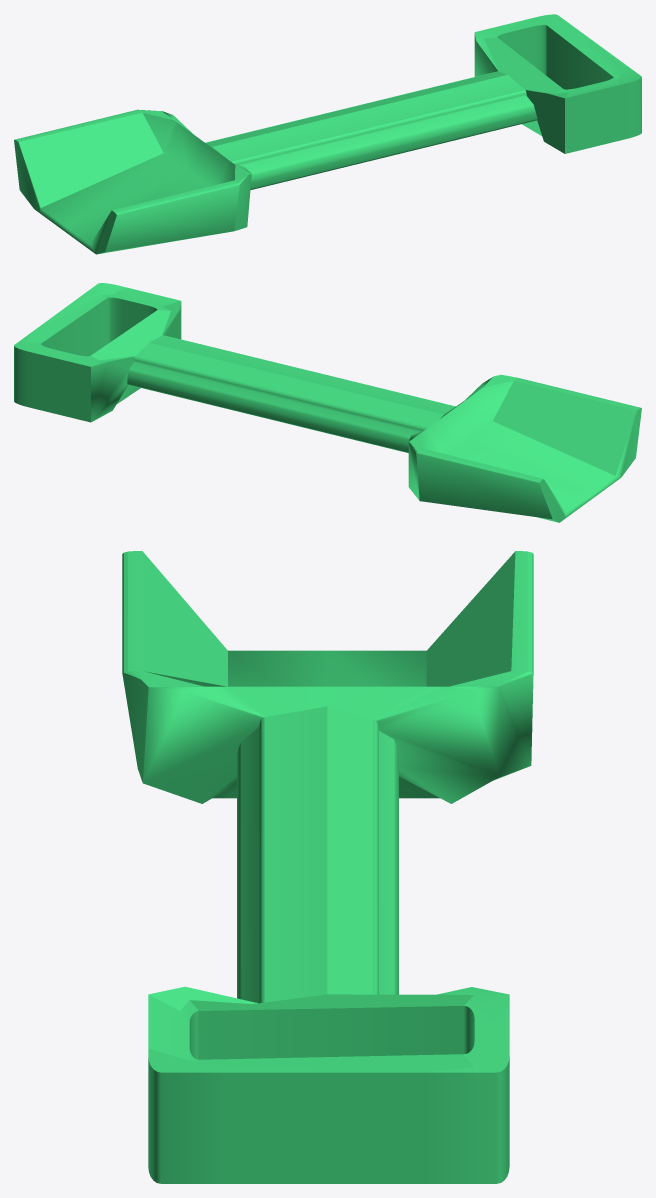
File: shovel.fbx
The picture shows the model from 3 angles, top to bottom: view 1: azimuth 30°, elevation 25°; view 2: azimuth 150°, elevation 25°; view 3: azimuth 270°, elevation 25°; orthographic projection. The views are drawn at different scales.
Visible parts, largest first — view 1: Cube; view 2: Cube; view 3: Cube.
Boxes of the visible parts, x1,y1,x2,y2 form: Cube: [14, 14, 641, 254]; Cube: [14, 283, 641, 522]; Cube: [122, 551, 533, 1183].
Bounding box in the file's own units: 420 × 43.25 × 139.
